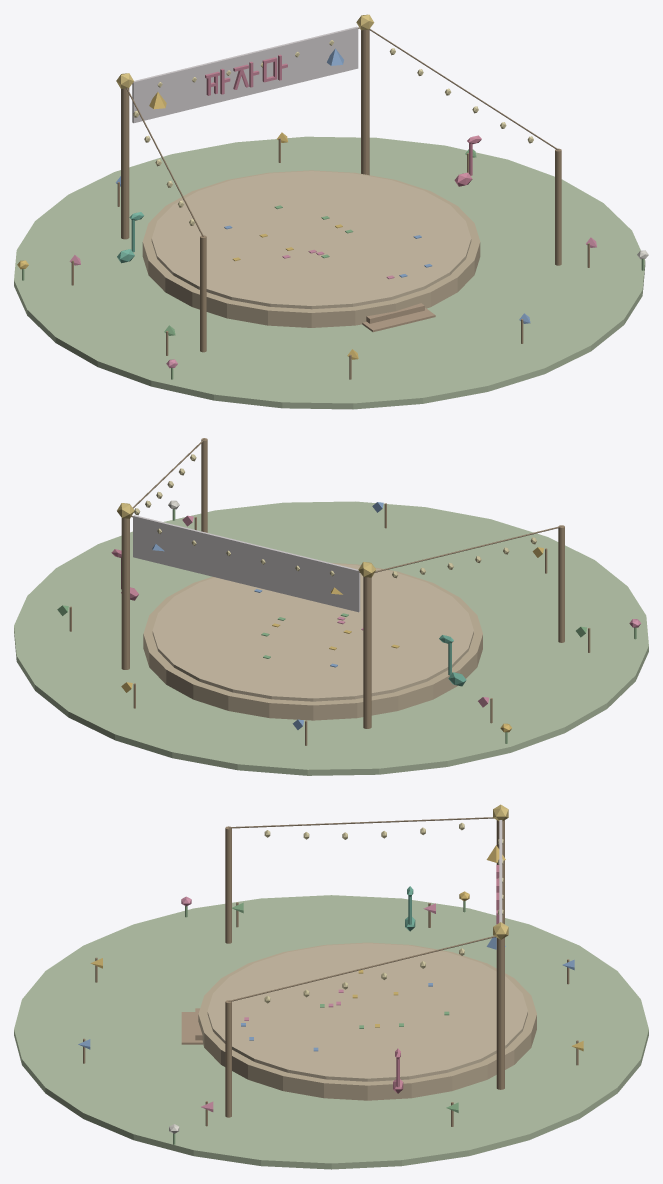
Rendered from stage.glb.
3 renders of one model, top to bottom at view 1: azimuth 30°, elevation 25°; view 2: azimuth 150°, elevation 25°; view 3: azimuth 270°, elevation 25°, orthographic.
Parts seen in each view (by area): view 1: part_07, part_10, part_15, part_08, part_05, part_09, part_06, part_03, part_14; view 2: part_07, part_10, part_15, part_08, part_05, part_03, part_14; view 3: part_07, part_10, part_08, part_05, part_03, part_06, part_14.
Boxes of the visible parts, left/top/right/bottom form: part_07: left=14, top=136, right=645, bottom=409; part_10: left=151, top=171, right=471, bottom=309; part_15: left=132, top=26, right=358, bottom=123; part_08: left=142, top=170, right=480, bottom=327; part_05: left=71, top=29, right=589, bottom=379; part_09: left=205, top=54, right=481, bottom=186; part_06: left=362, top=303, right=435, bottom=332; part_03: left=126, top=27, right=558, bottom=236; part_14: left=133, top=40, right=533, bottom=225; part_07: left=14, top=501, right=648, bottom=775; part_10: left=152, top=564, right=473, bottom=701; part_15: left=133, top=515, right=360, bottom=612; part_08: left=143, top=563, right=482, bottom=720; part_05: left=69, top=438, right=590, bottom=745; part_03: left=130, top=439, right=561, bottom=572; part_14: left=134, top=454, right=536, bottom=578; part_07: left=14, top=895, right=648, bottom=1169; part_10: left=207, top=943, right=527, bottom=1081; part_08: left=198, top=942, right=536, bottom=1100; part_05: left=83, top=820, right=578, bottom=1126; part_03: left=228, top=817, right=500, bottom=1001; part_06: left=181, top=1008, right=202, bottom=1044; part_14: left=264, top=823, right=503, bottom=1003.
Bounding box in the file's own units: 21 × 6.21 × 21.
